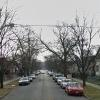Tree: (46, 19, 96, 78)
